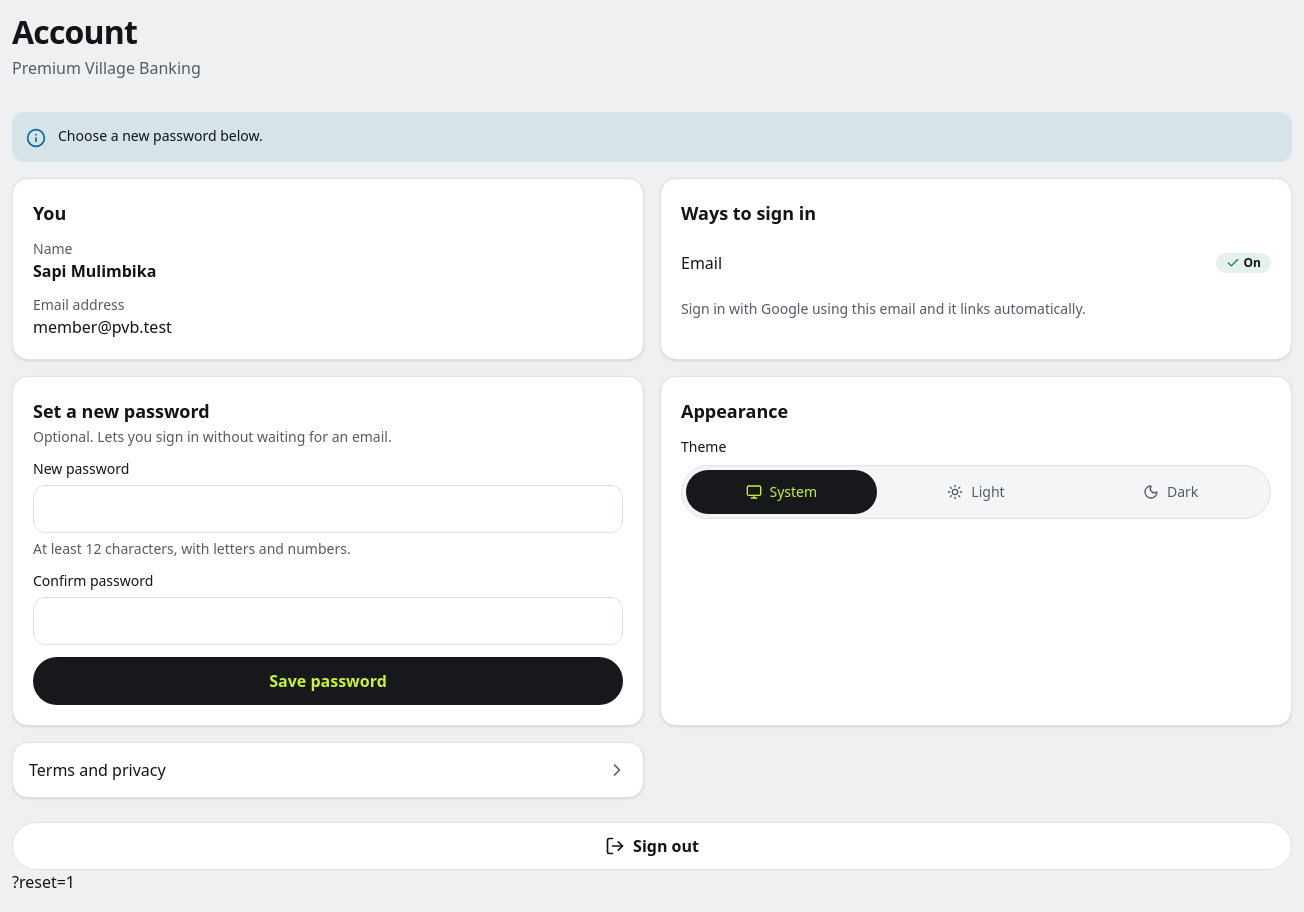
Test: a password change needing a recent sign-in emails a code, asks for it, and saves with it
Step 1. Type "village2027bank" into the password field labelled "New password" → (328, 509), box [33,485,623,533]
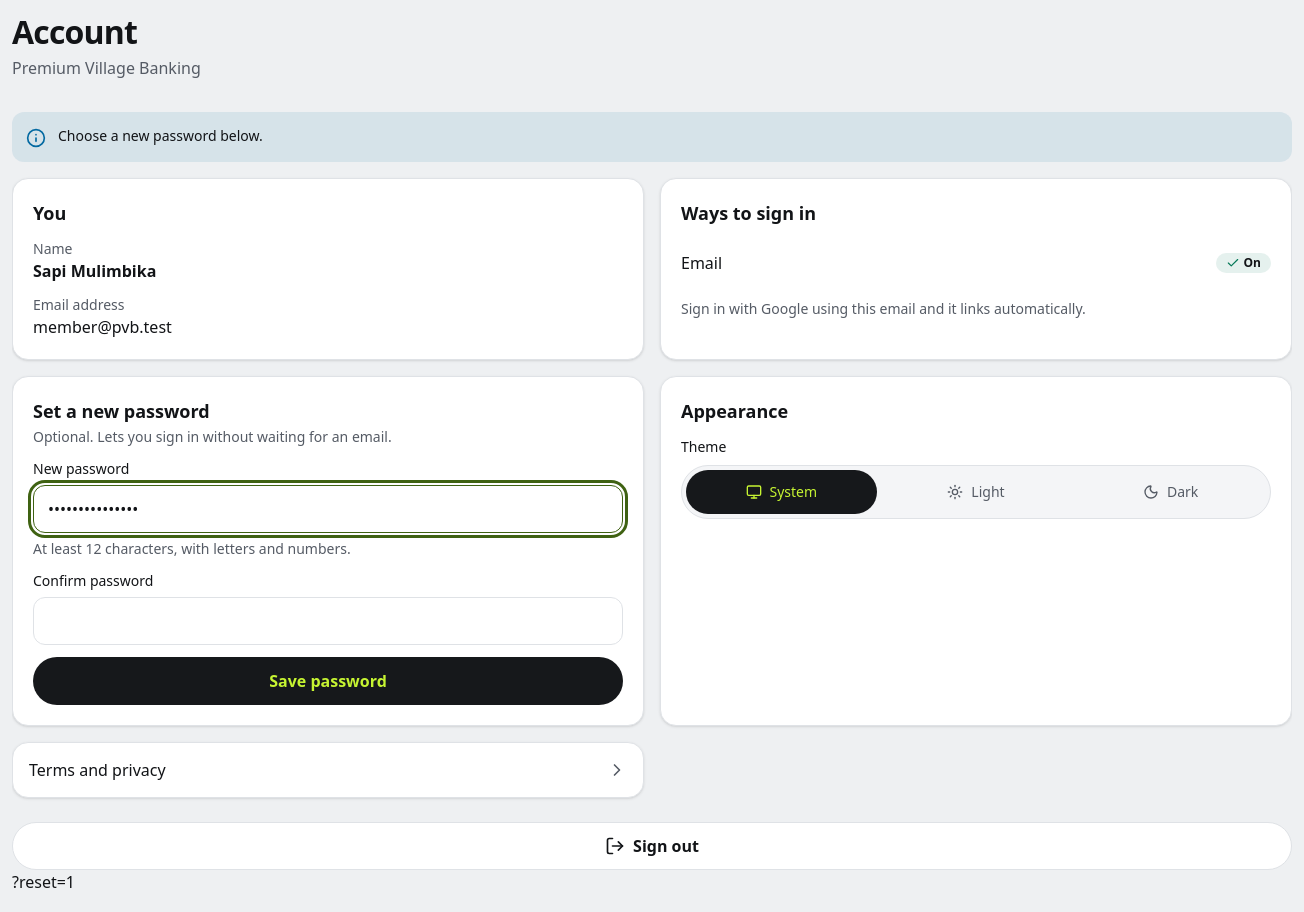
Step 2. Type "village2027bank" into the password field labelled "Confirm password" → (328, 621), box [33,597,623,645]
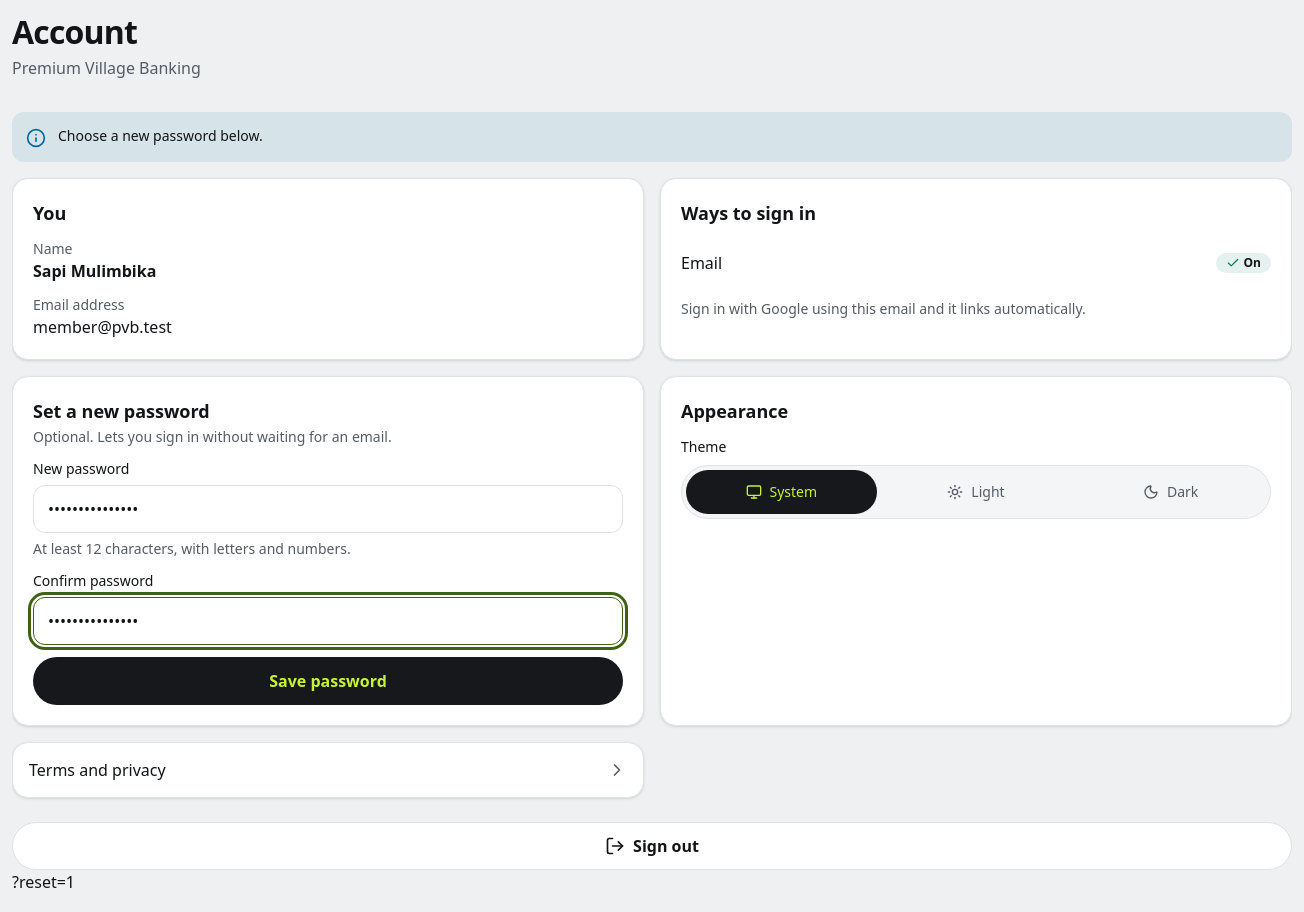
Step 3. Click the button "Save password" → click(328, 681), box [33,657,623,705]
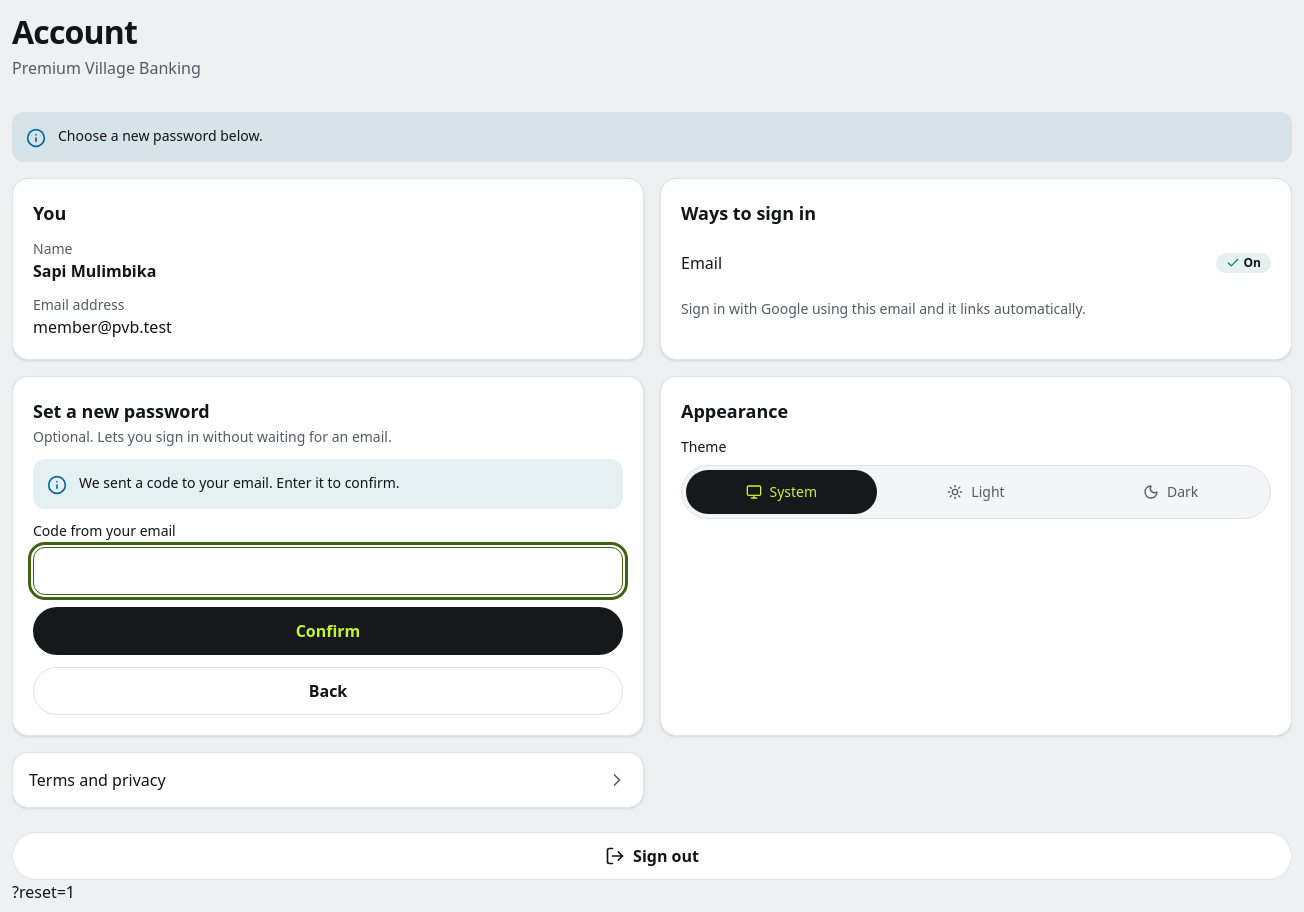
Check: the text "We sent a code to your email. Enter it to confirm." is shown, box [79,473,400,492]
Step 4. Type "123456" into the field labelled "Code from your email" → (328, 571), box [33,547,623,595]
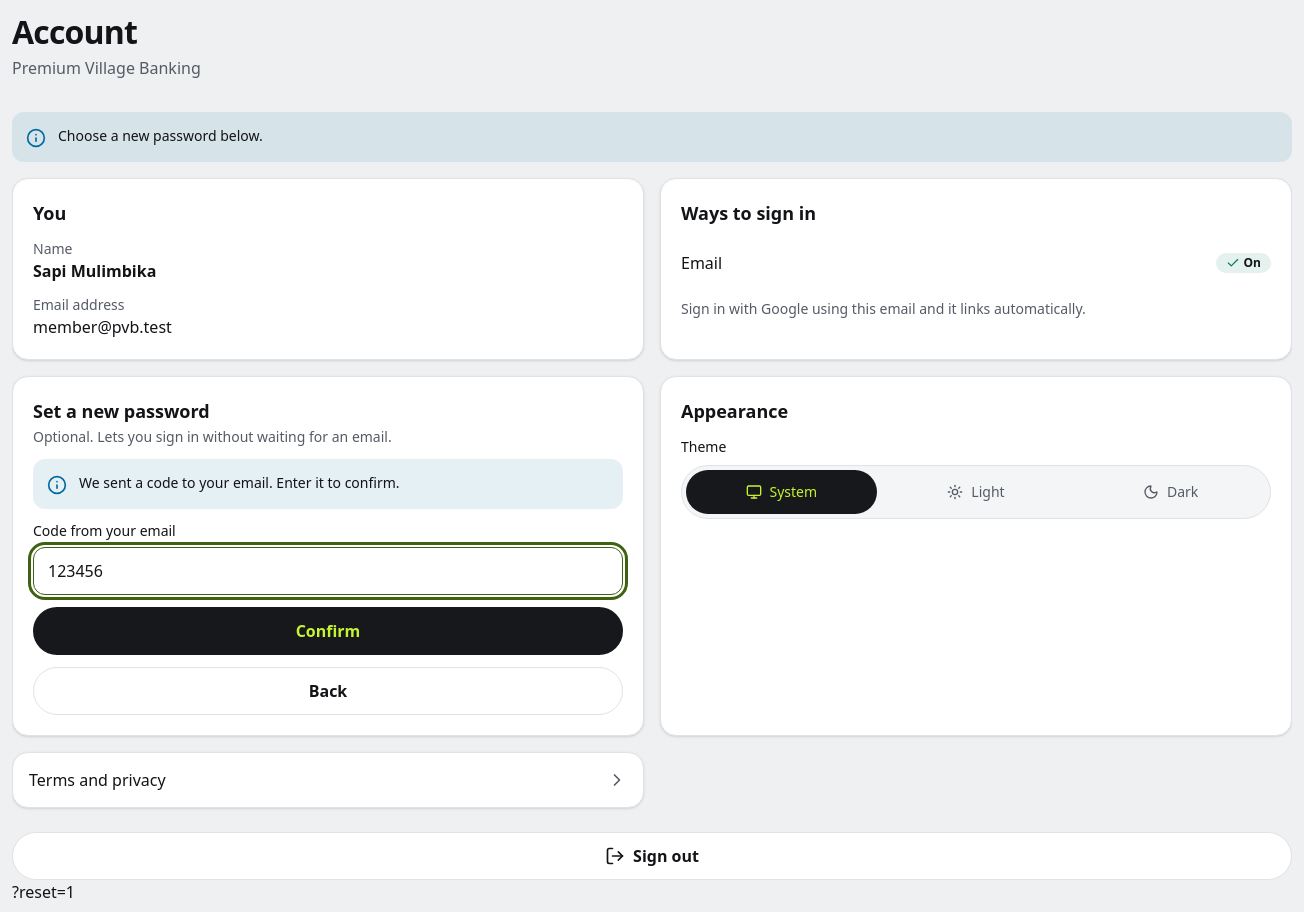
Step 5. Click the button "Confirm" → click(328, 631), box [33,607,623,655]
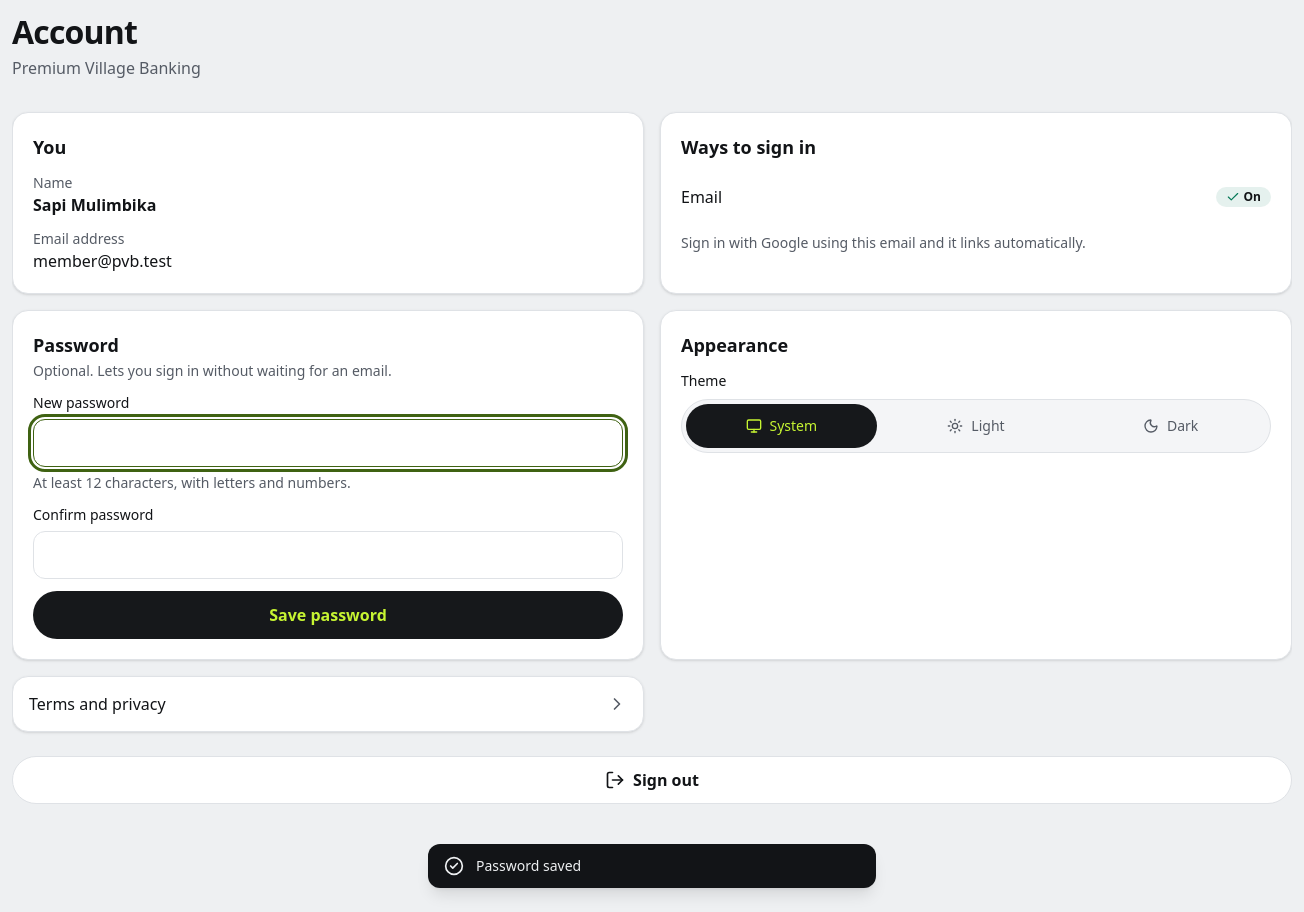
Check: the text "Password saved" is shown, box [476,856,581,875]
Check: the password field labelled "New password" is empty, box [33,419,623,467]
Check: the label labelled "Code from your email" is gone
